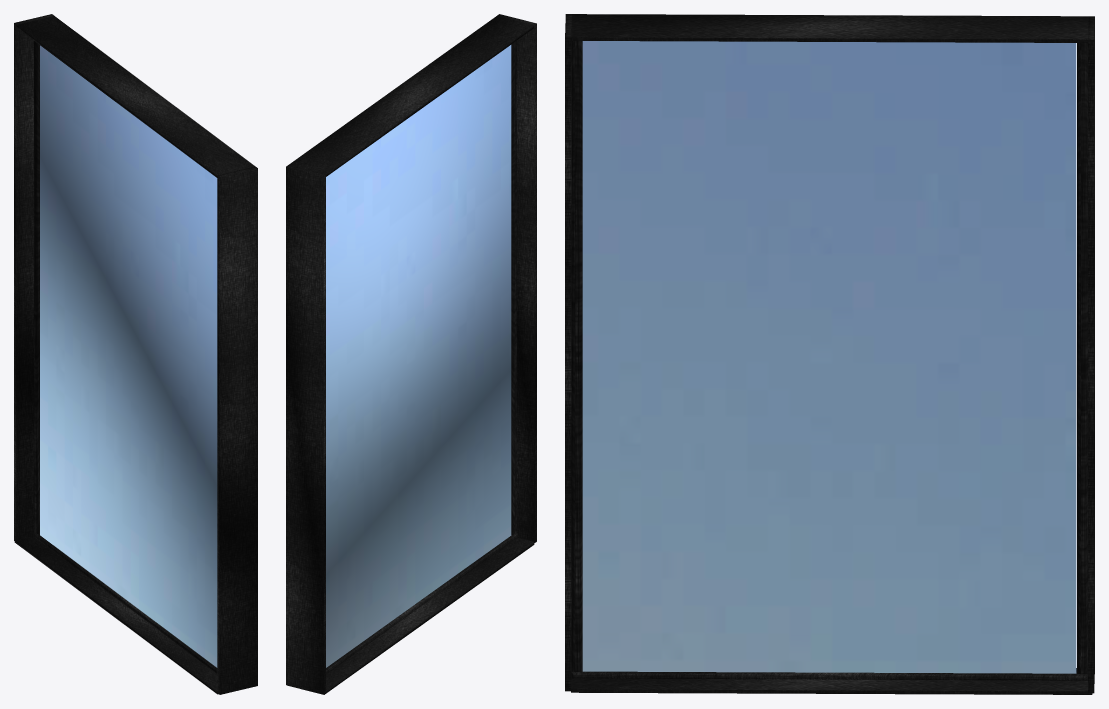
The model's file is Ventana10.obj.
3 renders of one model, left to right at view 1: azimuth 30°, elevation 25°; view 2: azimuth 150°, elevation 25°; view 3: azimuth 270°, elevation 25°, orthographic. The views are drawn at different scales.
Visible parts, largest first — view 1: polySurface108; view 2: polySurface108; view 3: polySurface108.
Part boxes in pixels (x1,y1,x2,y2): polySurface108: (14, 14, 257, 694); polySurface108: (286, 14, 536, 694); polySurface108: (565, 14, 1094, 694).
Size of the model in its own units: 0.1565 by 1.88 by 1.37.
Materials: 2 (2 with a texture image).
